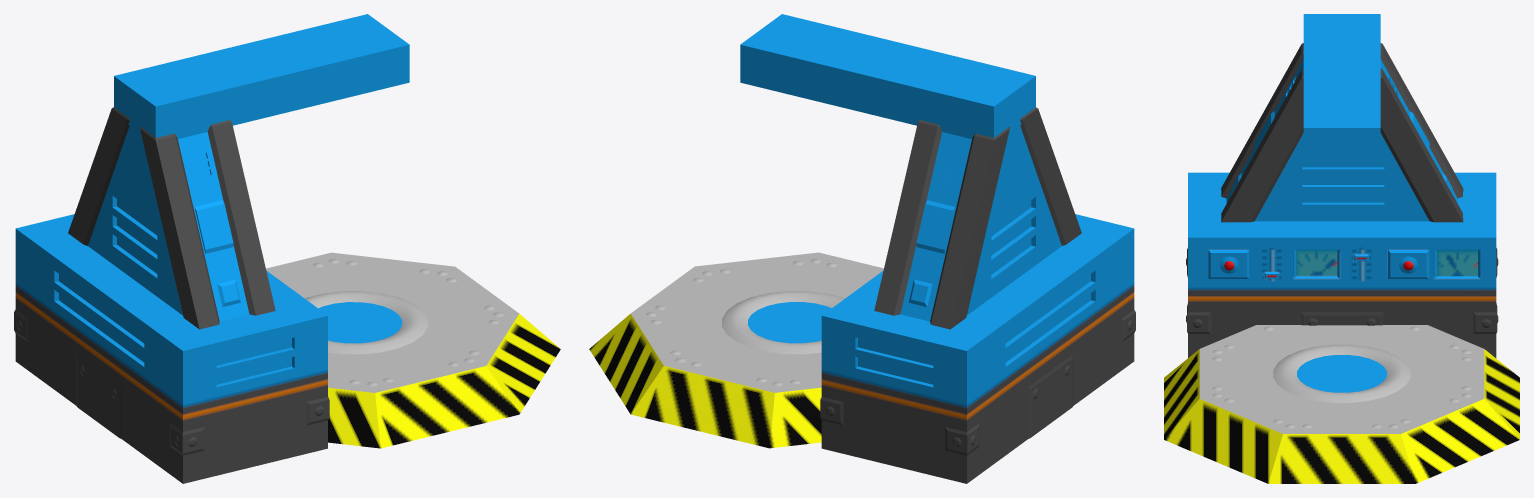
Rendered from convert1.gltf.
3 renders of one model, left to right at view 1: azimuth 30°, elevation 25°; view 2: azimuth 150°, elevation 25°; view 3: azimuth 270°, elevation 25°, orthographic. The views are drawn at different scales.
Parts seen in each view (by area): view 1: convert1; view 2: convert1; view 3: convert1.
Part boxes in pixels (left/top/right/bottom): convert1: left=14, top=14, right=560, bottom=483; convert1: left=589, top=14, right=1135, bottom=483; convert1: left=1164, top=14, right=1519, bottom=483.
Bounding box in the file's own units: 23.34 × 17 × 18.48.
